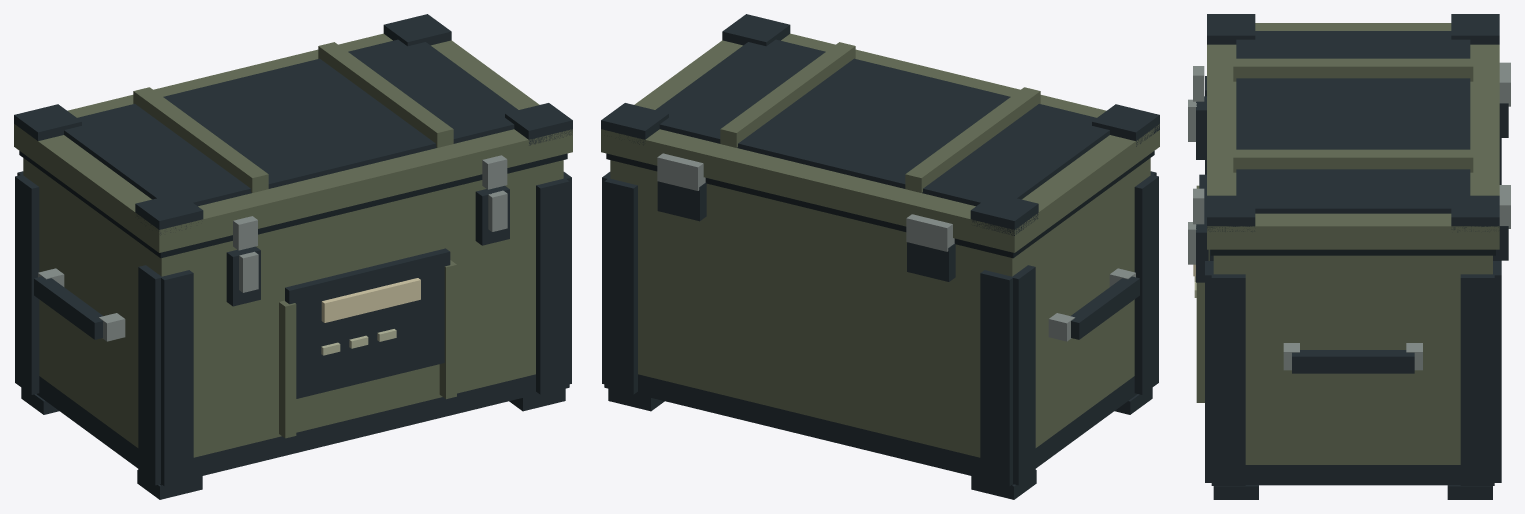
The model's file is FSA_CRATE_002_Common.glb.
The picture shows the model from 3 angles, left to right: view 1: azimuth 30°, elevation 25°; view 2: azimuth 150°, elevation 25°; view 3: azimuth 270°, elevation 25°; orthographic projection.
Parts seen in each view (by area): view 1: FrontWall, TopInset, LidShell, SideWall_-1, FrontPanel, Base, CornerFront_1_1, CornerFront_-1_1, CornerSide_-1_-1, CornerSide_-1_1, TopRib_-0_143, TopRib_0_143 (+18 smaller); view 2: BackWall, TopInset, LidShell, SideWall_-1, Base, CornerFront_1_-1, CornerFront_-1_-1, CornerSide_-1_1, CornerSide_-1_-1, TopRib_-0_143, TopRib_0_143, LidSeal (+12 smaller); view 3: SideWall_1, TopInset, LidShell, CornerSide_1_1, CornerSide_1_-1, TopRib_-0_143, TopRib_0_143, Base, SideGrip_1, LidSeal, CornerFront_1_-1, LidCorner_1_1 (+14 smaller).
Part boxes in pixels (x1,y1,x2,y2): FrontWall: (153, 160, 563, 457); TopInset: (64, 39, 518, 206); LidShell: (14, 33, 572, 252); SideWall_-1: (30, 164, 154, 447); FrontPanel: (285, 248, 450, 398); Base: (36, 374, 538, 485); CornerFront_1_1: (536, 177, 569, 394); CornerFront_-1_1: (159, 270, 193, 486); CornerSide_-1_-1: (15, 175, 39, 394); CornerSide_-1_1: (138, 265, 160, 485); TopRib_-0_143: (133, 87, 268, 192); TopRib_0_143: (318, 42, 453, 147); BackWall: (610, 160, 1020, 457); TopInset: (655, 39, 1109, 206); LidShell: (601, 33, 1159, 252); SideWall_-1: (1020, 163, 1143, 447); Base: (635, 374, 1137, 485); CornerFront_1_-1: (604, 178, 637, 394); CornerFront_-1_-1: (980, 270, 1014, 486); CornerSide_-1_1: (1134, 175, 1158, 394); CornerSide_-1_-1: (1013, 265, 1035, 485); TopRib_-0_143: (905, 87, 1040, 192); TopRib_0_143: (720, 42, 855, 147); LidSeal: (606, 151, 1154, 258); SideWall_1: (1227, 255, 1479, 464); TopInset: (1236, 31, 1470, 213); LidShell: (1207, 23, 1499, 249); CornerSide_1_1: (1211, 273, 1245, 485); CornerSide_1_-1: (1460, 273, 1494, 485); TopRib_-0_143: (1233, 58, 1473, 81); TopRib_0_143: (1233, 149, 1473, 172); Base: (1245, 465, 1460, 485); SideGrip_1: (1292, 350, 1414, 373); LidSeal: (1210, 249, 1495, 255); CornerFront_1_-1: (1493, 261, 1501, 482); LidCorner_1_1: (1207, 195, 1255, 231).
Bounding box in the file's own units: 0.707 × 0.427 × 0.428.
